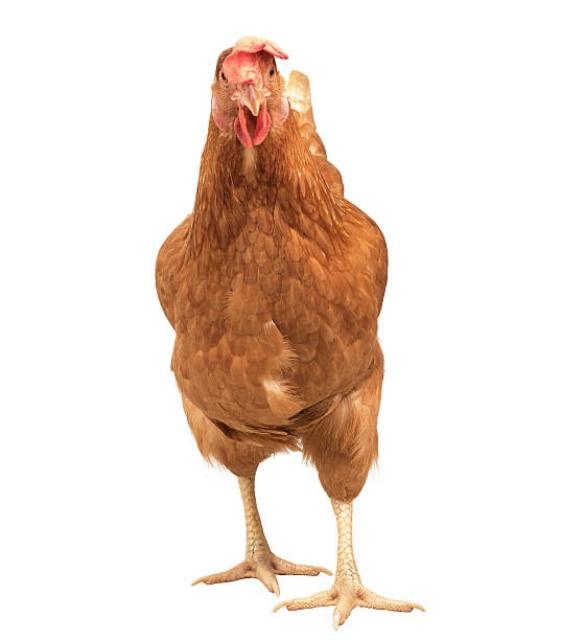Chicken: (154, 38, 427, 628)
